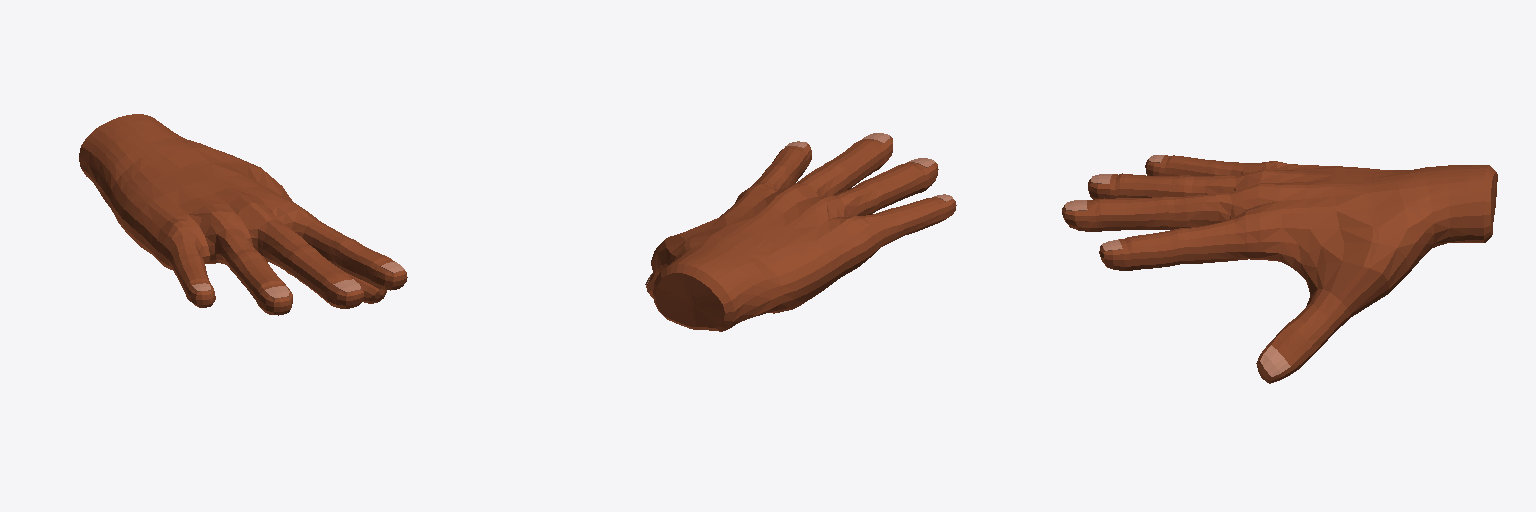
File: right_hand_open_3.obj
3 renders of one model, left to right at view 1: azimuth 30°, elevation 25°; view 2: azimuth 150°, elevation 25°; view 3: azimuth 270°, elevation 25°, orthographic.
Parts seen in each view (by area): view 1: hand_left_open:Mesh; view 2: hand_left_open:Mesh; view 3: hand_left_open:Mesh.
Boxes of the visible parts, <box> form: hand_left_open:Mesh: <box>79,114,407,315</box>; hand_left_open:Mesh: <box>645,133,956,331</box>; hand_left_open:Mesh: <box>1062,155,1497,383</box>.
Bounding box in the file's own units: 1.71 × 0.9402 × 2.58.